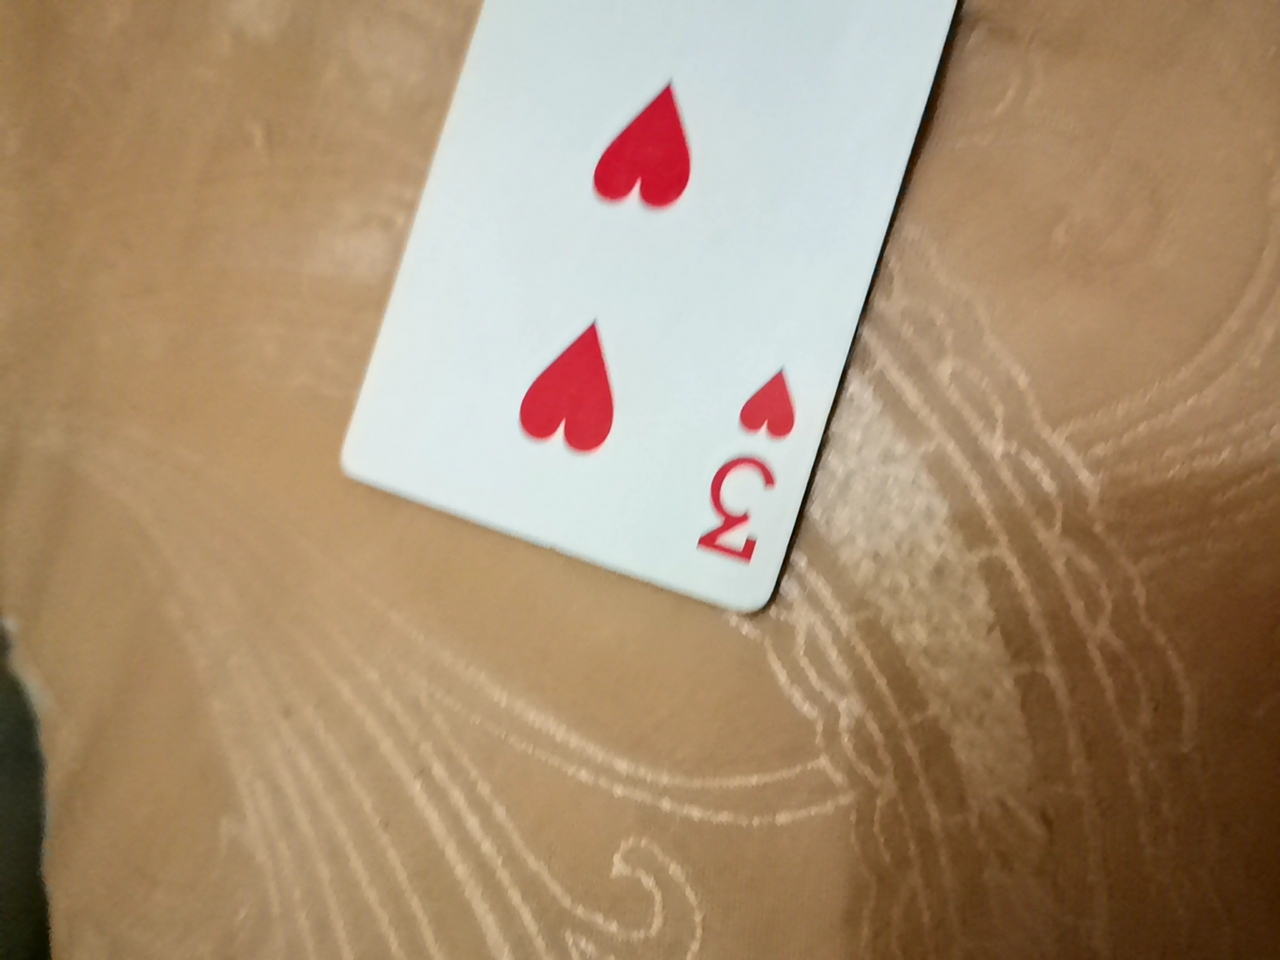hx 3: (383, 0, 1043, 551)
